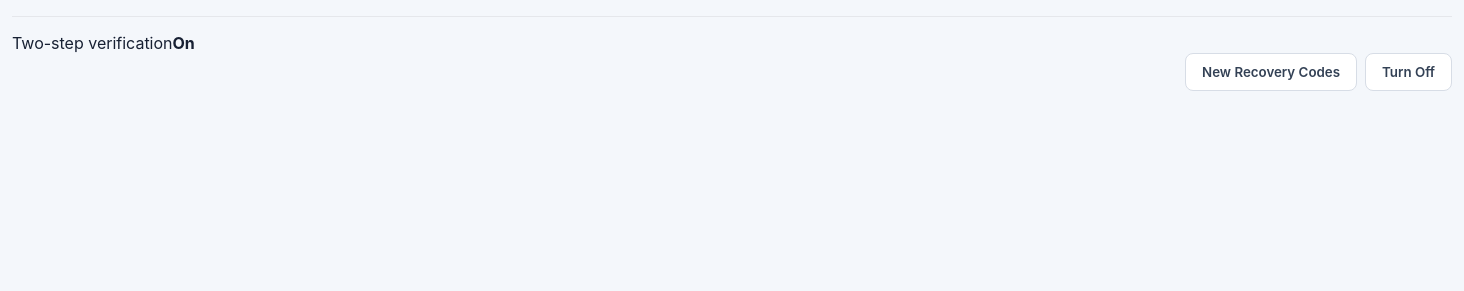
TwoFactorSettings › turns MFA off with a password and a code
The image size is (1464, 291).
Expected: the text "On" is shown, [172,33,195,53]
Click the button "Turn Off" at (1408, 72), box [1365,53,1452,91]
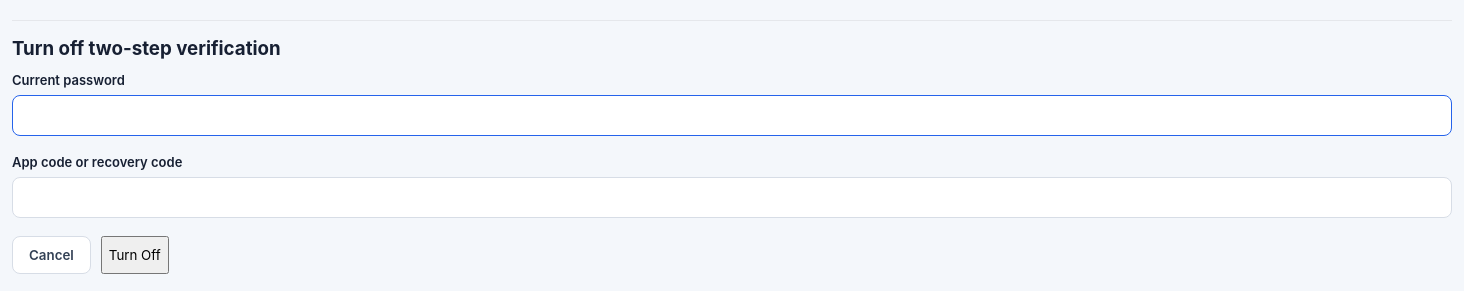
Type "my-password-123" into the password field labelled "Current password" at (732, 116), box [12,95,1452,136]
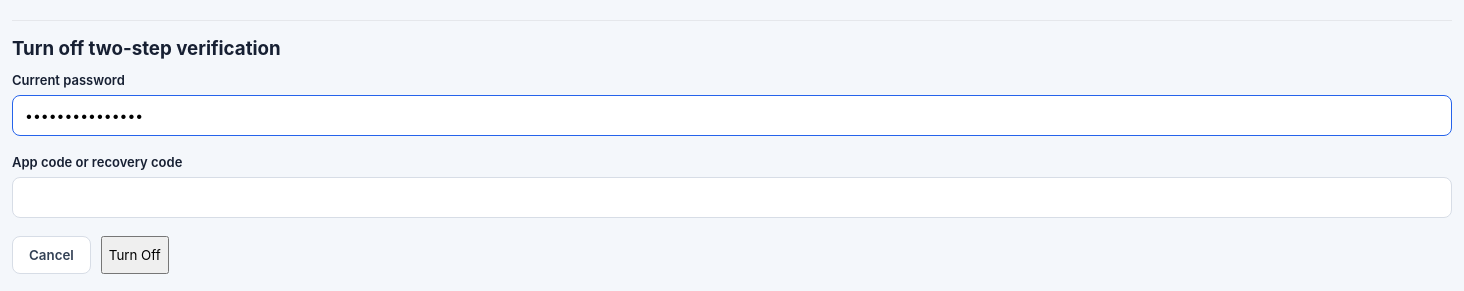
Type "abcde-fghjk" into the field labelled "App code or recovery code" at (732, 198), box [12,177,1452,218]
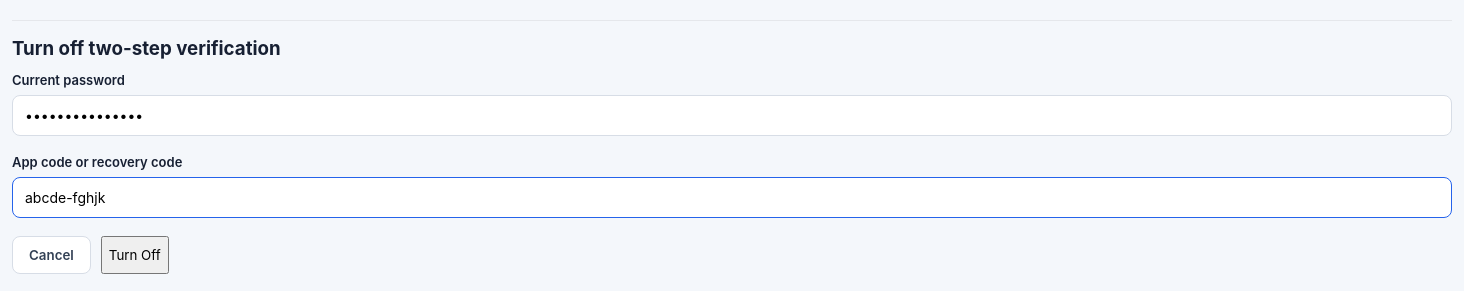
Click the button "Turn Off" at (135, 255), box [101,236,169,274]
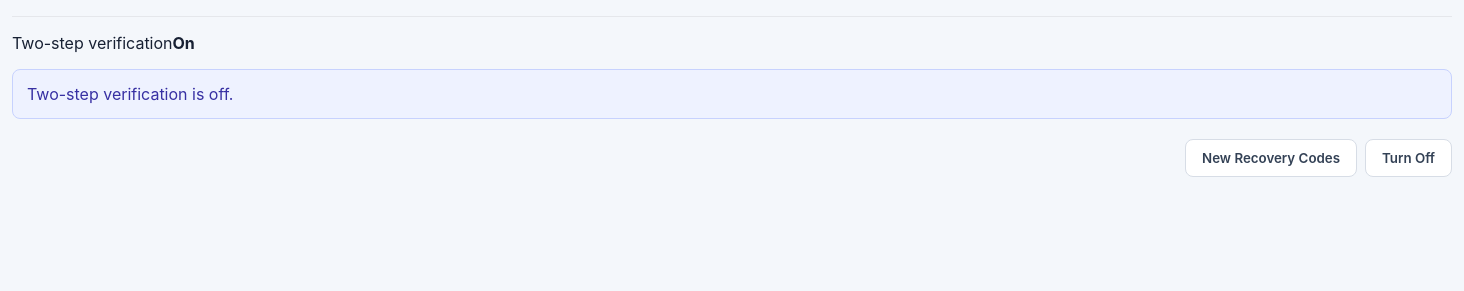
Now the message reads "Two-step verification is off.", box [27,84,233,104]
